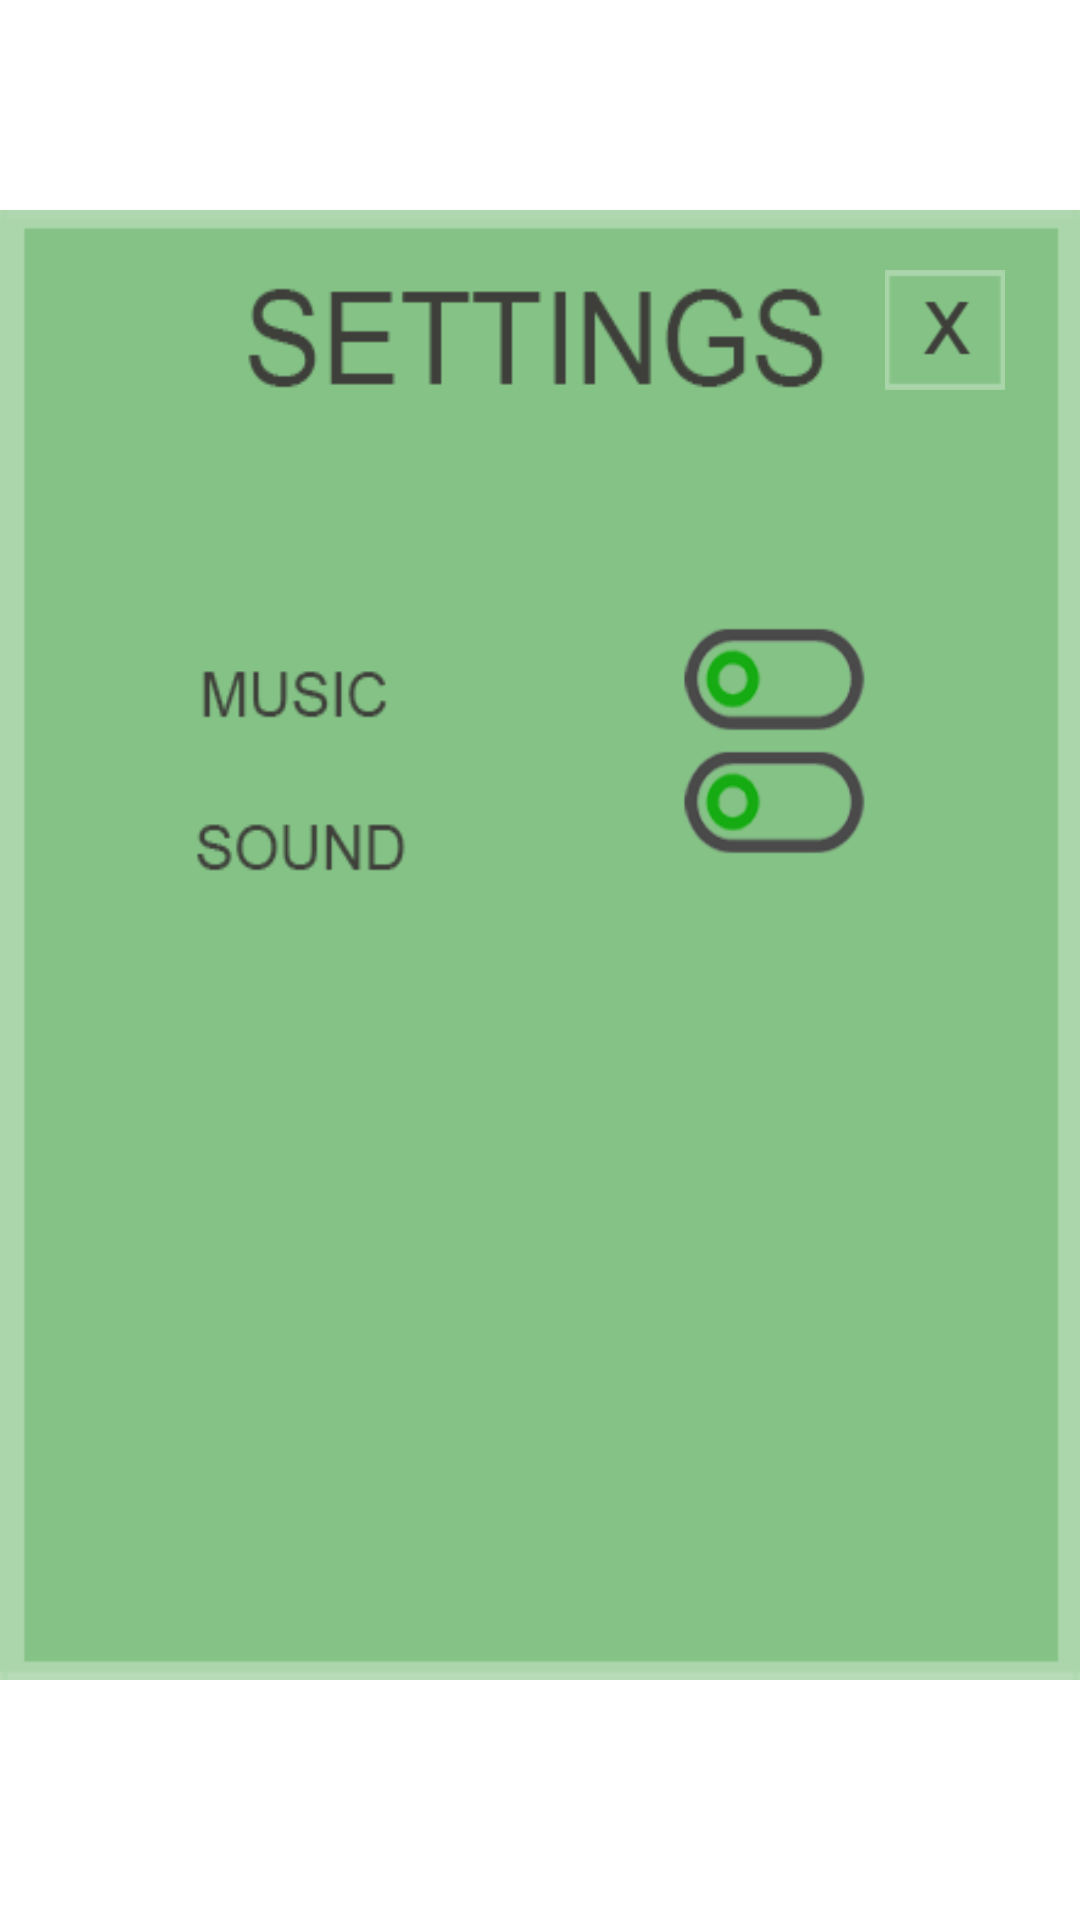

Screen size 1080px x 1920px. Icon name, then its box in pixels as {"x1": x1, "y1": y1, "x2": x2, "y2": y2}:
close: {"x1": 885, "y1": 270, "x2": 1005, "y2": 390}
